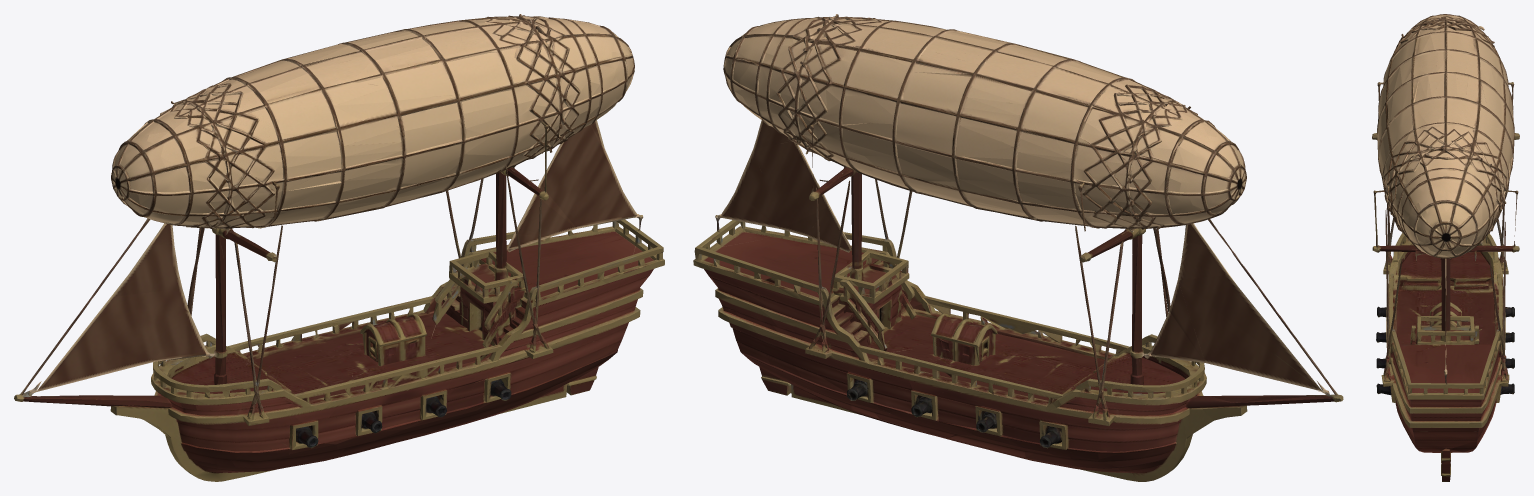
The picture shows the model from 3 angles, left to right: view 1: azimuth 30°, elevation 25°; view 2: azimuth 150°, elevation 25°; view 3: azimuth 270°, elevation 25°; orthographic projection. The views are drawn at different scales.
Visible parts, largest first — view 1: Mesh_0; view 2: Mesh_0; view 3: Mesh_0.
Boxes of the visible parts, box(x1,y1,x2,y2) form: Mesh_0: box(14, 14, 664, 481); Mesh_0: box(693, 14, 1343, 481); Mesh_0: box(1372, 14, 1519, 481).
Bounding box in the file's own units: 1.9 × 1.15 × 0.4766.
1 material, 1 textured.
